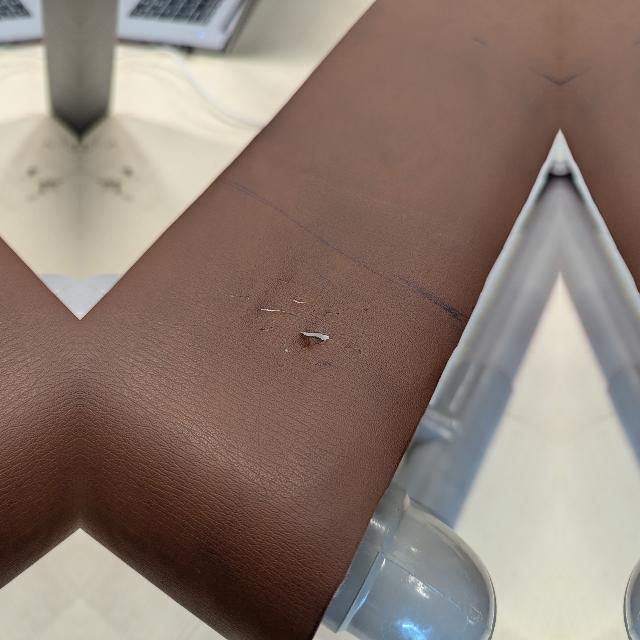belt_crack: (226, 238, 374, 367)
